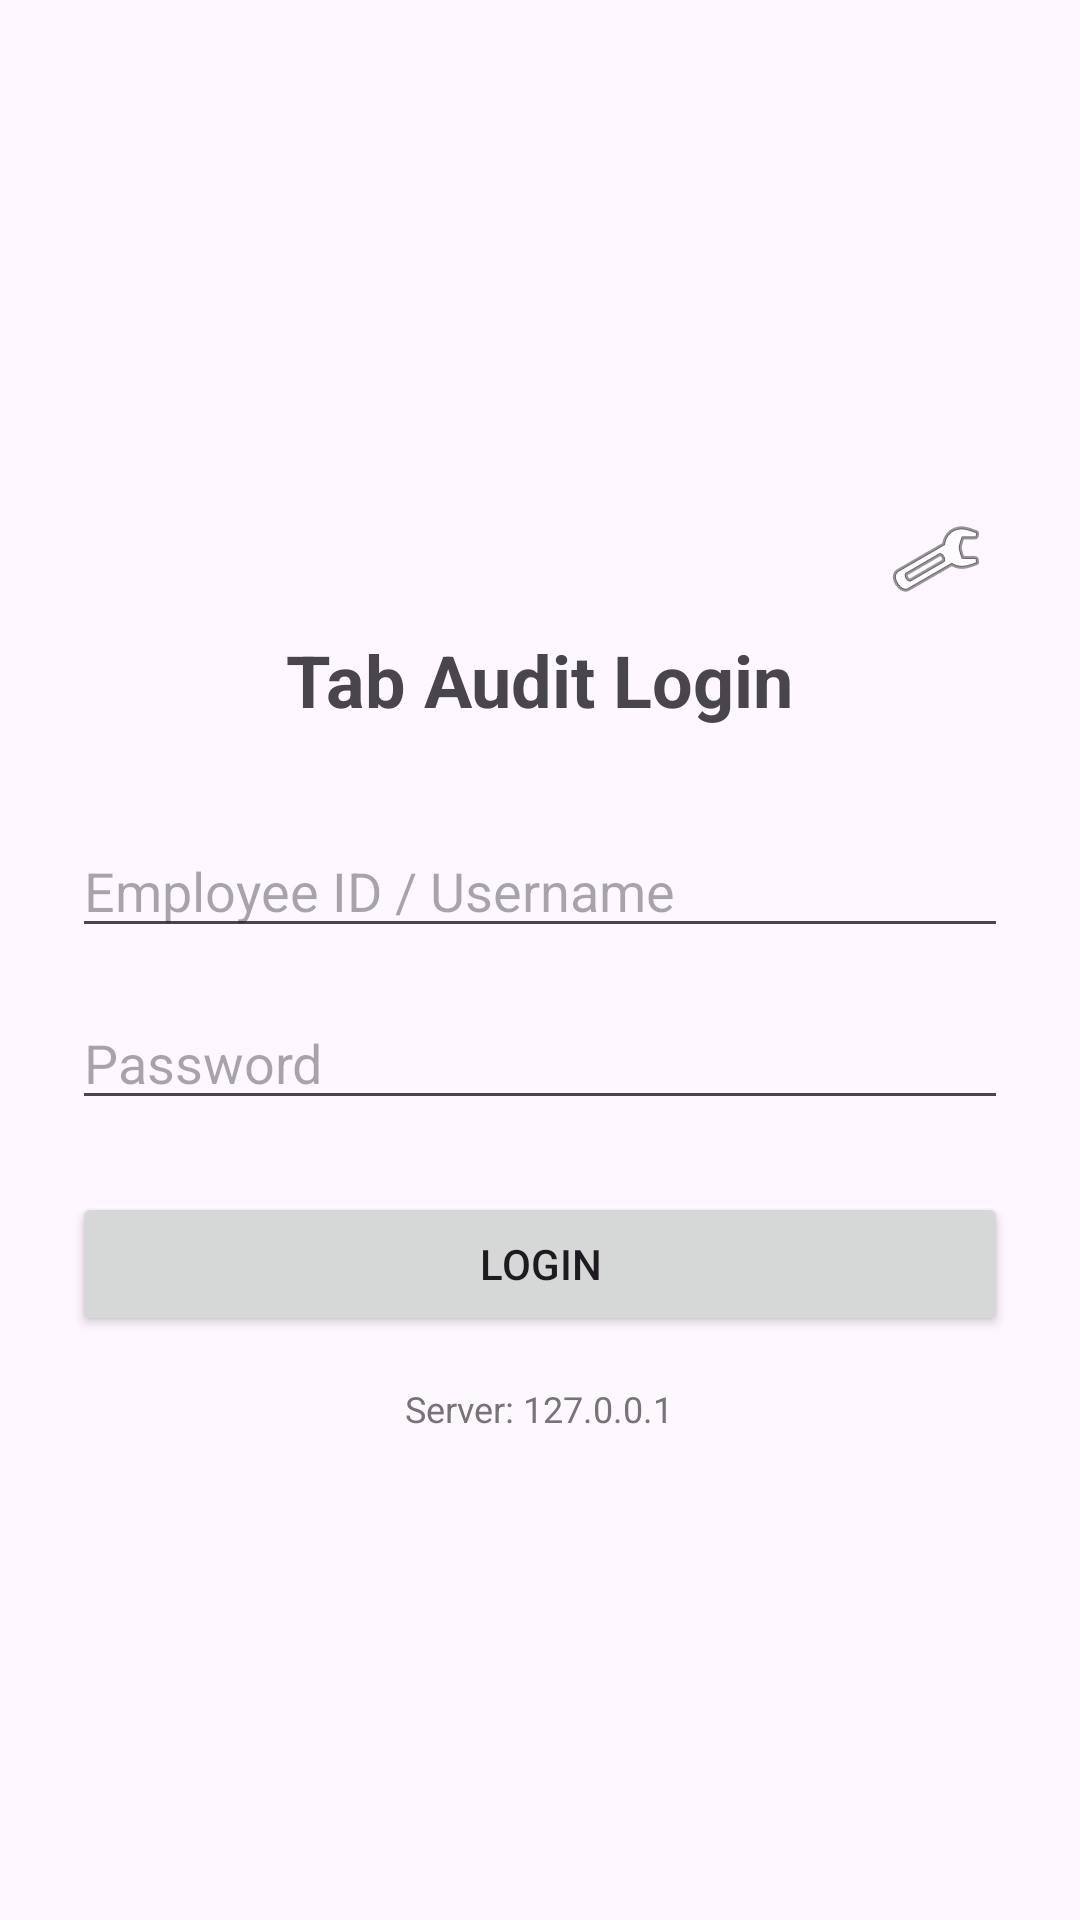

Screen size 1080px×1920px. Icon name, then its box in pixels as (x1, y1, x2, y2):
Server Settings: (893, 526, 979, 592)
